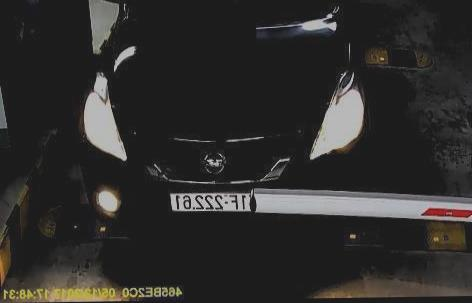License_Plate: (170, 187, 264, 218)
